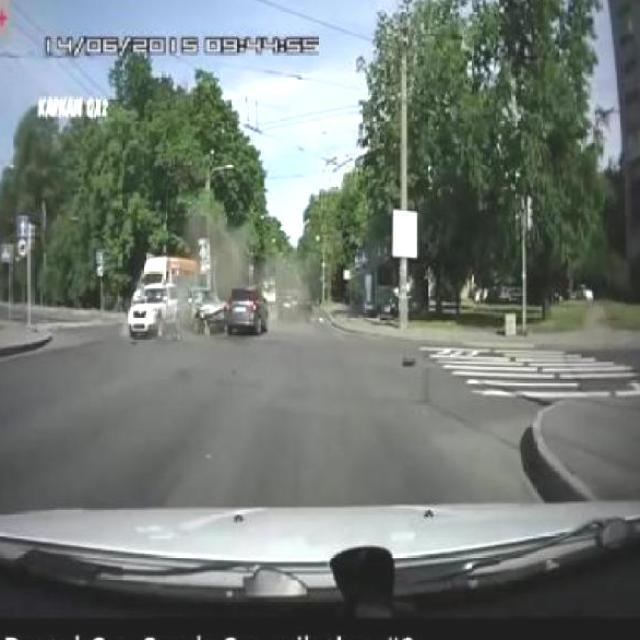accident: (182, 282, 276, 339)
